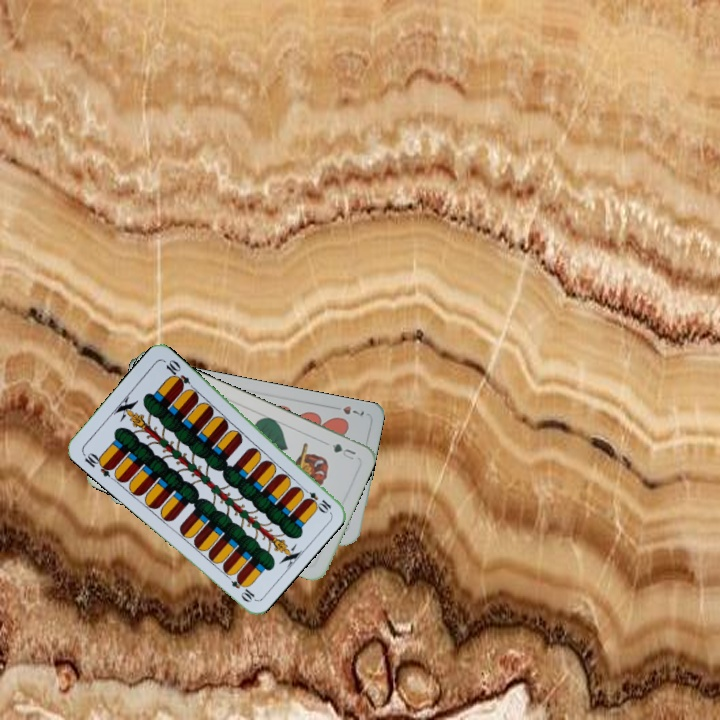E10: (298, 483, 334, 515), (79, 448, 116, 479)
GU: (328, 439, 358, 463)
H7: (339, 401, 367, 419)
